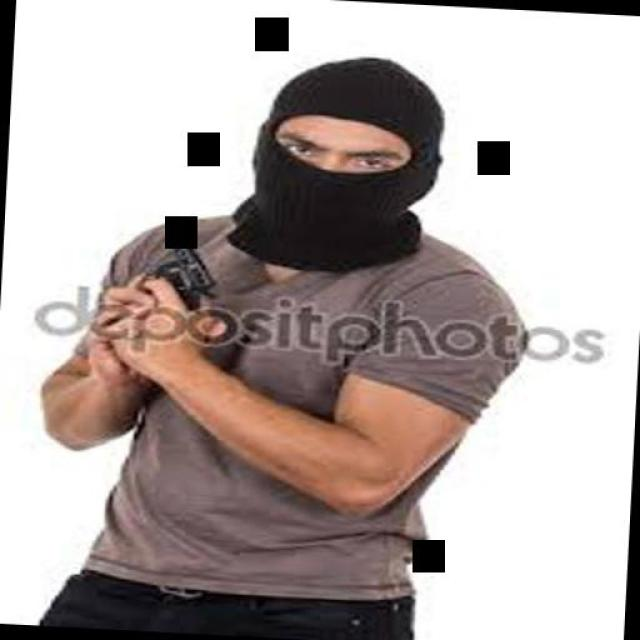gun: (146, 235, 219, 297)
